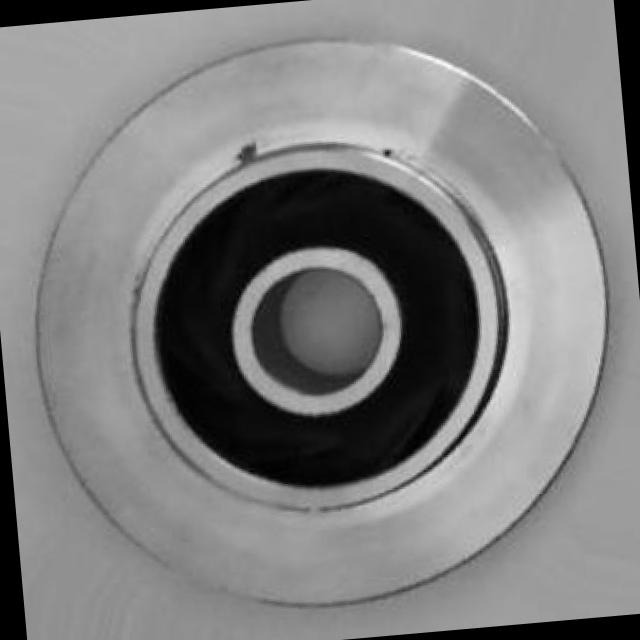Defect: (230, 136, 264, 168)
